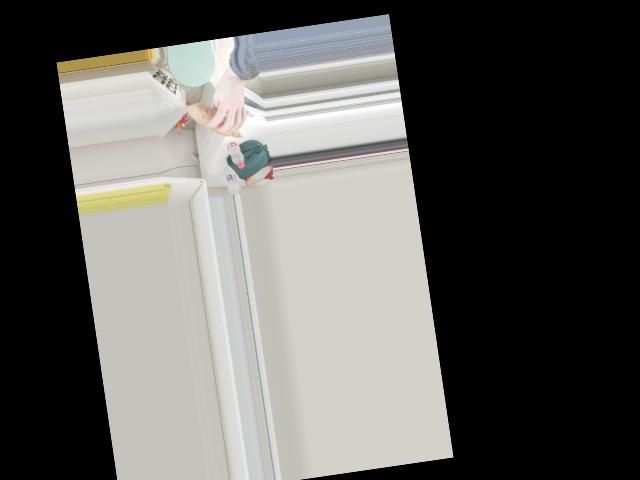sweet_potato: (190, 98, 247, 142)
